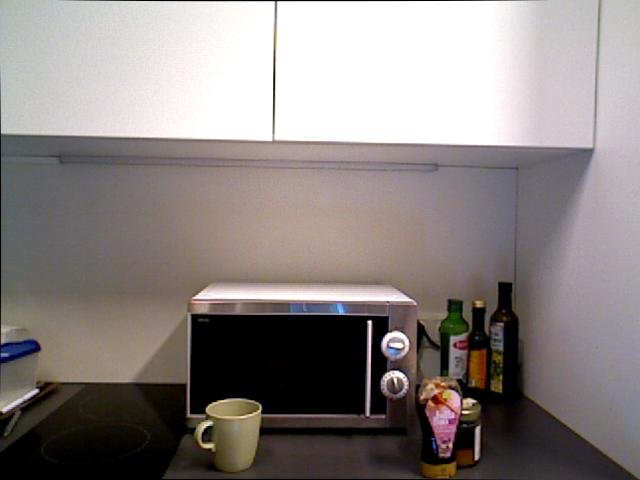bench: (418, 377, 460, 479), (488, 280, 519, 401), (438, 298, 469, 384), (466, 299, 490, 396), (454, 397, 482, 468)
handbag: (193, 397, 262, 472)
knife: (184, 280, 418, 431)
